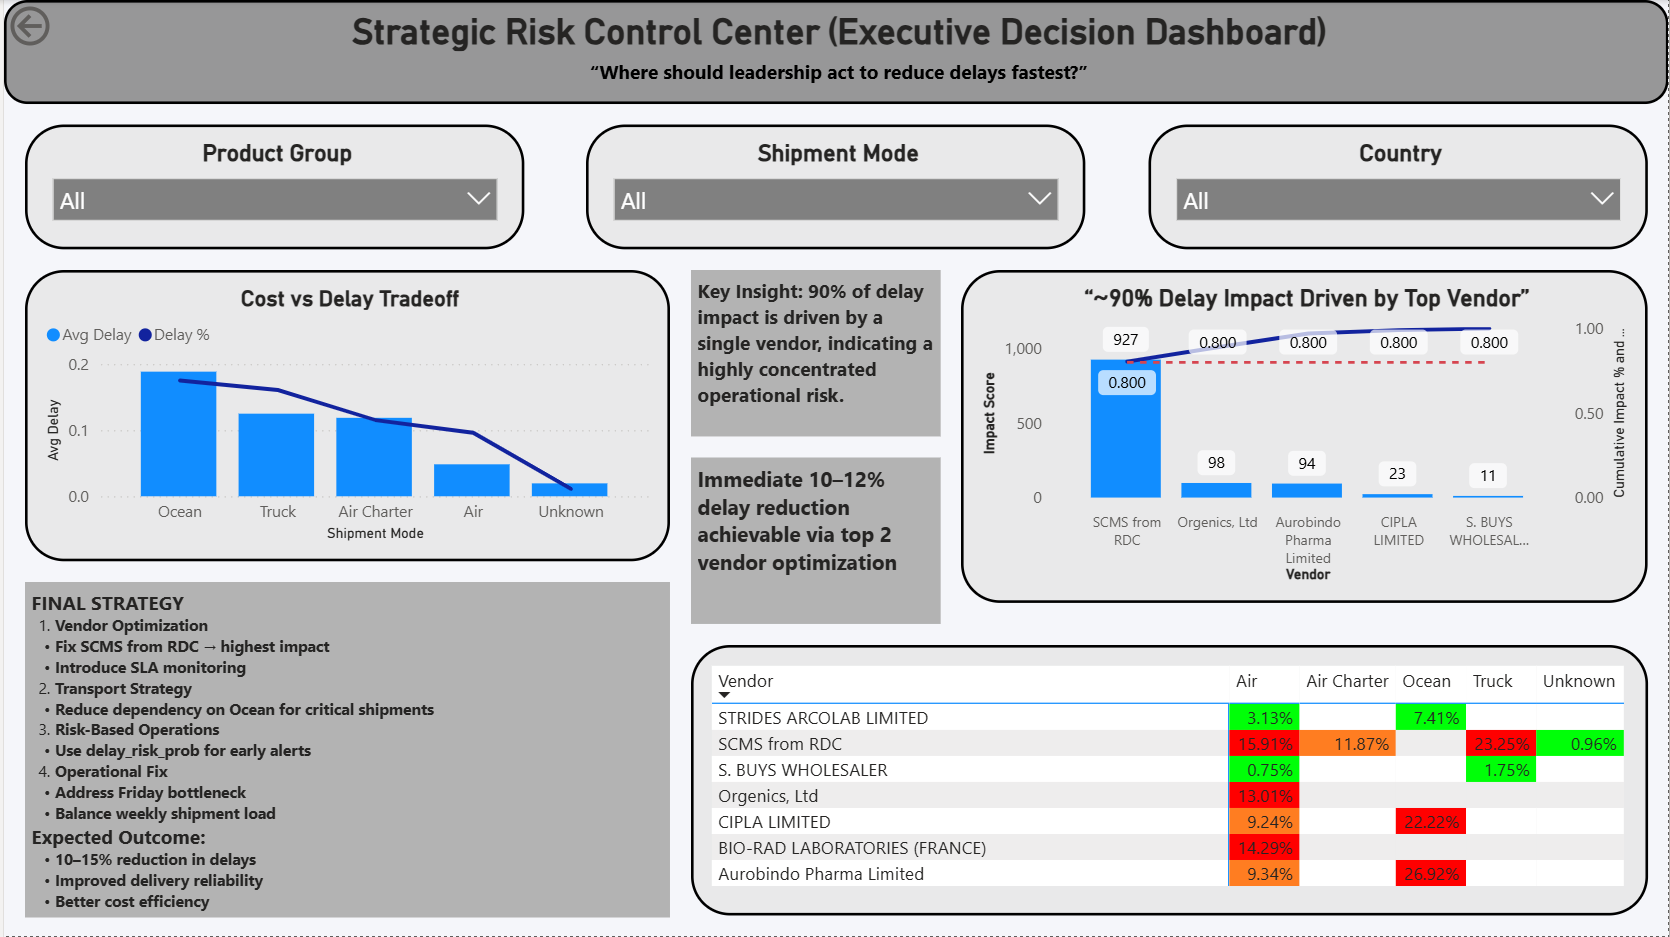

What the dashboard file says about the page in this screenshot:
{"tool":"powerbi","page":{"name":"StrategicRiskControlCenter","canvas":[1280,720],"ordinal":2},"visuals":[{"type":"textbox","title":"Strategic Risk Control Center (Executive Decision Dashboard)","box":[0,0,1280,80],"z":0},{"type":"actionButton","box":[0,0,100,40],"z":1000},{"type":"slicer","title":"Shipment Mode","fields":{"Values":["final_dashboard_data.Shipment Mode"]},"box":[448,96,384,96],"z":2000},{"type":"slicer","title":"Product Group","fields":{"Values":["final_dashboard_data.Product Group"]},"box":[16,96,384,96],"z":3000},{"type":"slicer","title":"Country","fields":{"Values":["final_dashboard_data.Country"]},"box":[880,96,384,96],"z":4000},{"type":"lineClusteredColumnComboChart","title":"“~90% Delay Impact Driven by Top Vendor”","fields":{"Y":["RiskTable.Impact Score"],"Y2":["final_dashboard_data.Cumulative Impact %","RiskTable.Cutoff Line (%)"],"Category":["final_dashboard_data.Vendor"]},"box":[736,208,528,256],"z":5000},{"type":"textbox","box":[528,208,192,128],"z":6000},{"type":"lineClusteredColumnComboChart","title":"Cost vs Delay Tradeoff","fields":{"Category":["final_dashboard_data.Shipment Mode"],"Y":["RiskTable.Avg Delay"],"Y2":["final_dashboard_data.Delay %"]},"box":[16,208,496,224],"z":7000},{"type":"pivotTable","fields":{"Rows":["final_dashboard_data.Vendor"],"Columns":["final_dashboard_data.Shipment Mode"],"Values":["final_dashboard_data.Delay % (Final Clean)"]},"box":[528,496,736,208],"z":8000},{"type":"textbox","box":[16,448,496,258],"z":9000},{"type":"textbox","box":[528,352,192,128],"z":10000}]}

Visuals, with their boxes in screenshot pixels (x1, y1, x2, y2), scaled from the page's 1280x720 canvas onto the 1670x937 screenshot:
"Strategic Risk Control Center (Executive Decision Dashboard)" textbox: 0, 0, 1669, 104
actionButton: 0, 0, 130, 52
"Shipment Mode" slicer: 584, 125, 1086, 250
"Product Group" slicer: 21, 125, 522, 250
"Country" slicer: 1148, 125, 1649, 250
"“~90% Delay Impact Driven by Top Vendor”" lineClusteredColumnComboChart: 960, 271, 1649, 604
textbox: 689, 271, 939, 437
"Cost vs Delay Tradeoff" lineClusteredColumnComboChart: 21, 271, 668, 562
pivotTable - final_dashboard_data.Vendor x final_dashboard_data.Shipment Mode: 689, 645, 1649, 916
textbox: 21, 583, 668, 919
textbox: 689, 458, 939, 625
